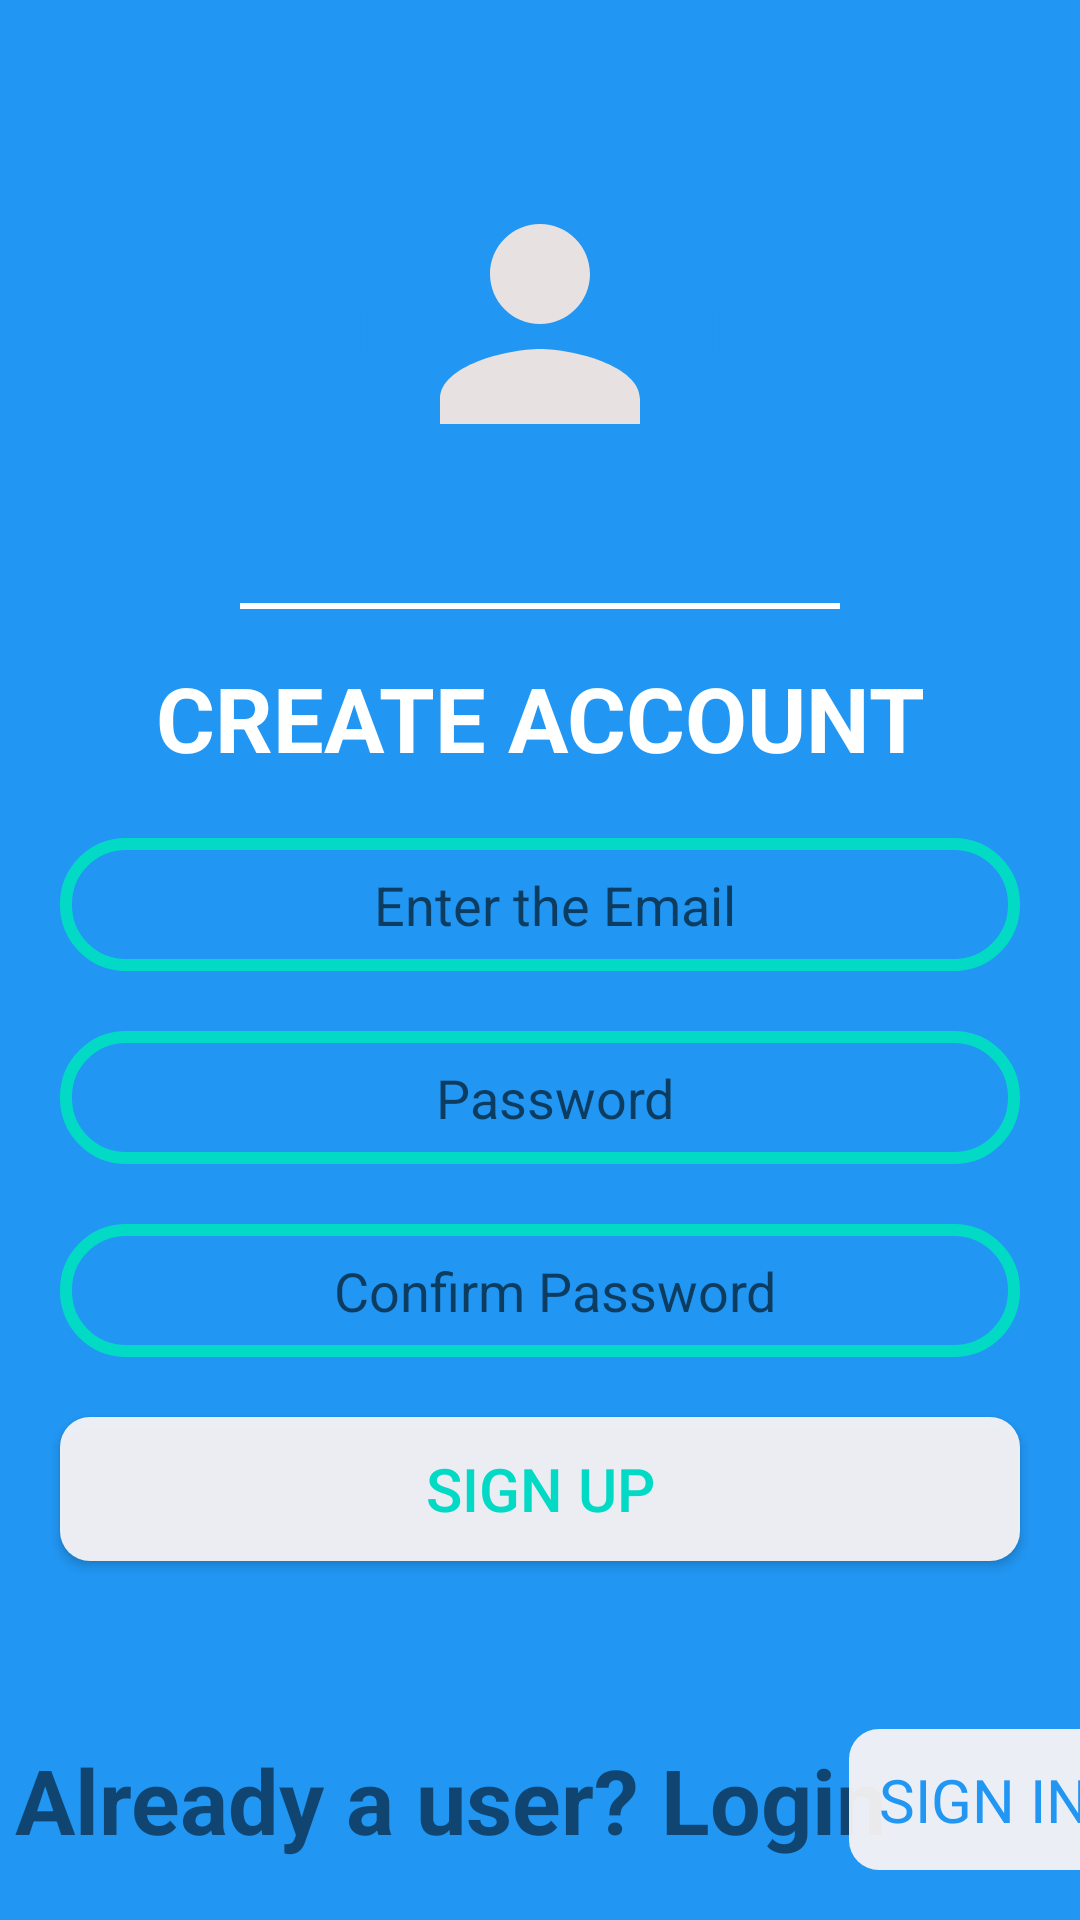

Icons on this 1080w x 1920h Android screen, each with the point to tap as [x,y]:
profile: [540,324]
